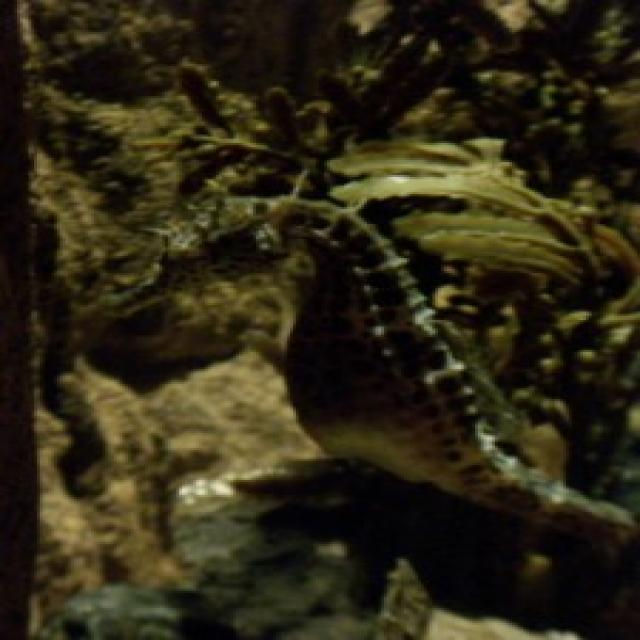Seahorse: (104, 189, 603, 564)
